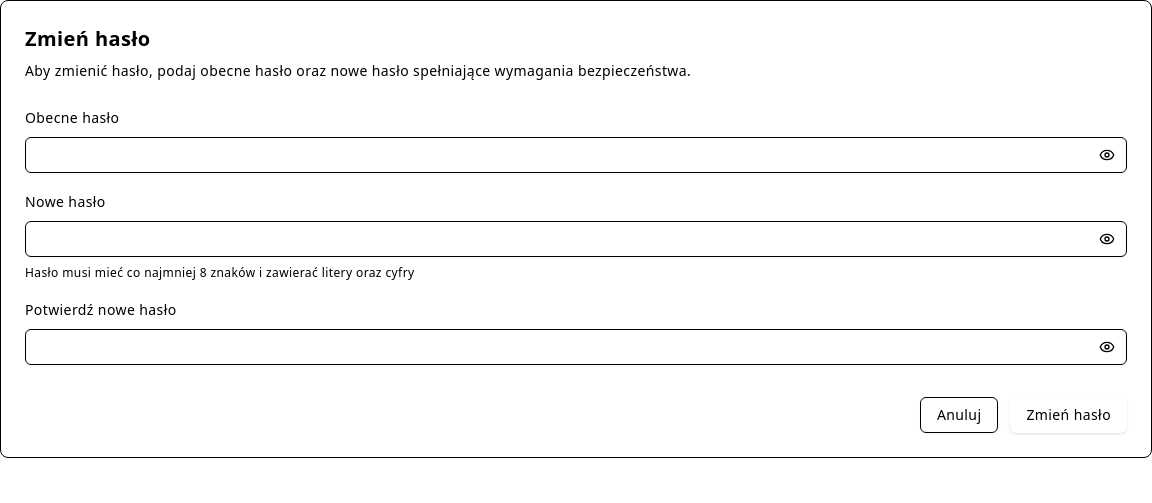
Test: ChangePasswordCard › validates password confirmation matches
Type "OldPassword123" into the password field labelled "Obecne hasło". click: (576, 155)
box: [25,137,1127,173]
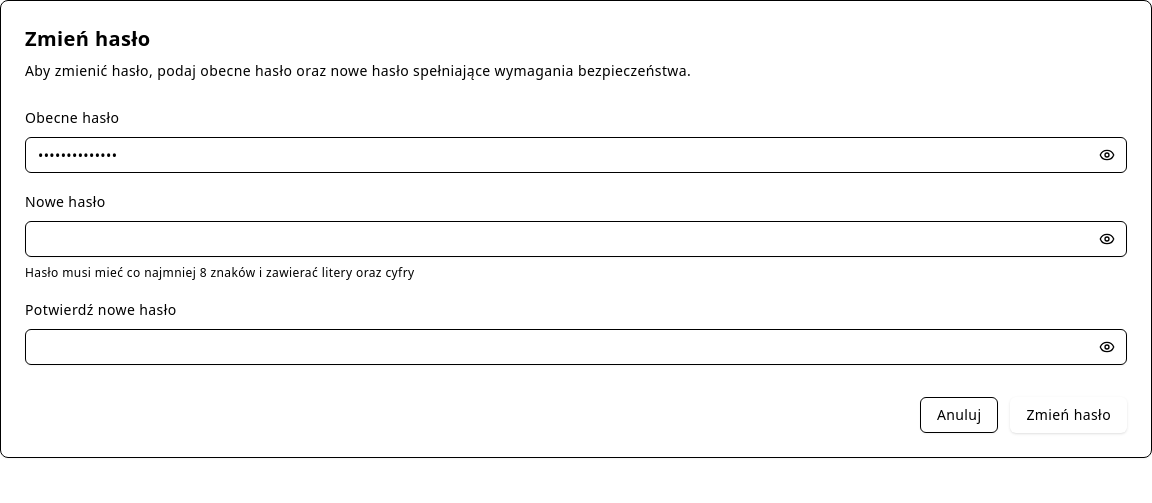
Type "NewPassword456" into the password field labelled "Nowe hasło". click: (576, 239)
box: [25,221,1127,257]
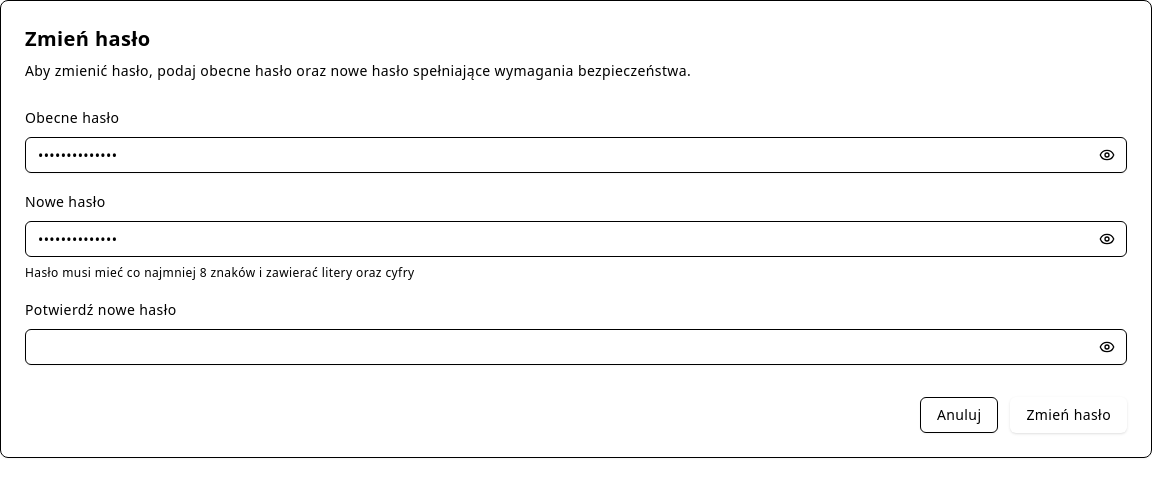
Type "DifferentPassword789" into the password field labelled "Potwierdź nowe hasło". click: (576, 347)
box: [25,329,1127,365]
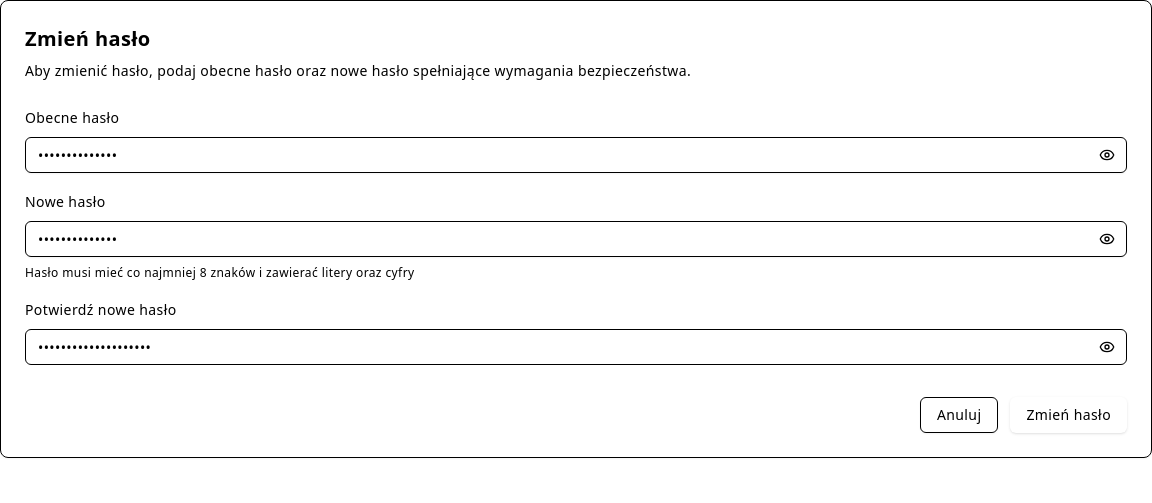
Click the button "Zmień hasło". click: (1069, 415)
box: [1010,397,1127,433]
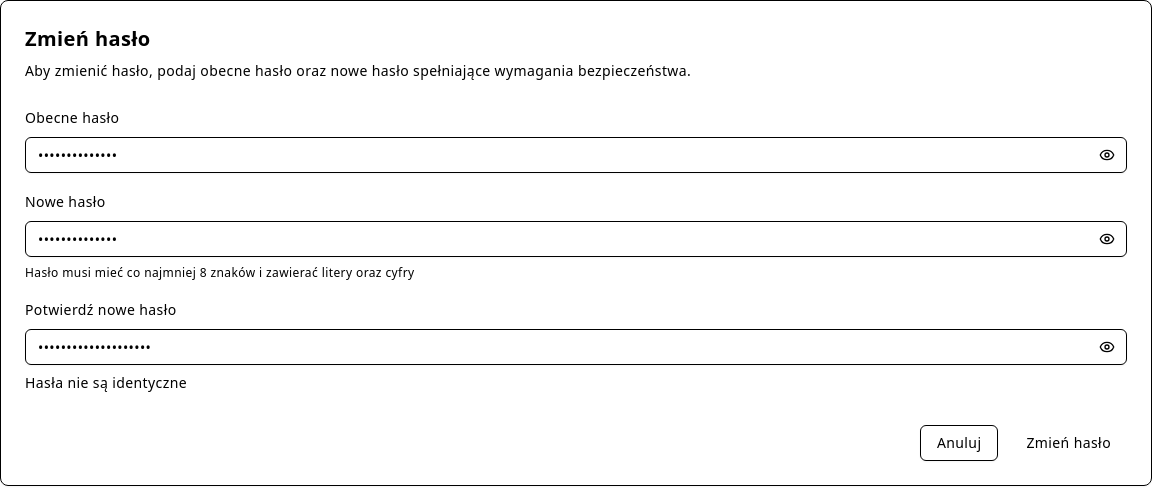
expect the text "Hasła nie są identyczne" is shown: met, box [25,373,187,392]
